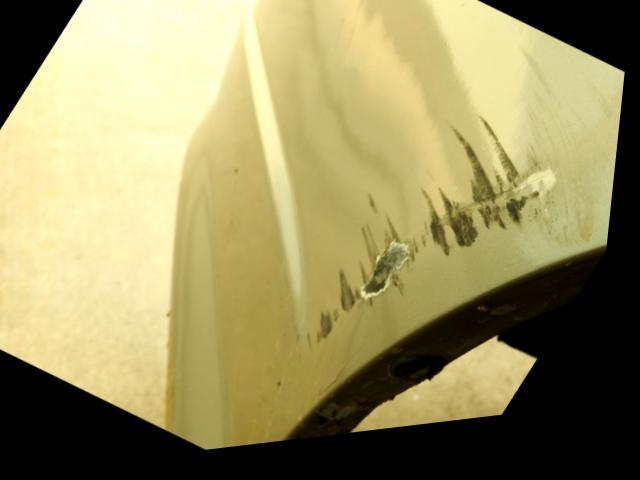scratch: (295, 102, 625, 371)
